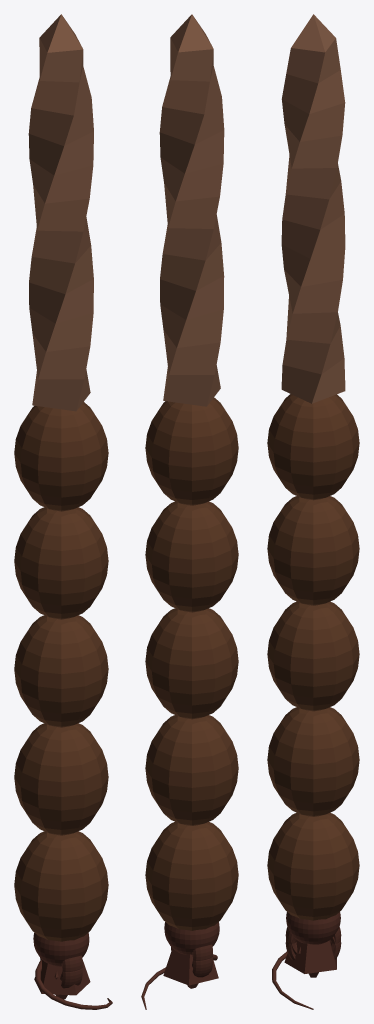
Rendered from Wand 251.glb.
3 renders of one model, left to right at view 1: azimuth 30°, elevation 25°; view 2: azimuth 210°, elevation 25°; view 3: azimuth 270°, elevation 25°, orthographic. The views are drawn at different scales.
Parts seen in each view (by area): view 1: GeneratedWand, Pommel_4, Pommel_9, Pommel_10, Pommel_2; view 2: GeneratedWand, Pommel_4, Pommel_9, Pommel_2; view 3: GeneratedWand, Pommel_4, Pommel_9, Pommel_10, Pommel_2.
Boxes of the visible parts, <box> form: GeneratedWand: <box>14,14,108,980</box>; Pommel_4: <box>33,932,89,966</box>; Pommel_9: <box>34,959,90,995</box>; Pommel_10: <box>35,959,112,1009</box>; Pommel_2: <box>40,957,82,988</box>; GeneratedWand: <box>145,14,238,967</box>; Pommel_4: <box>164,922,219,954</box>; Pommel_9: <box>163,948,218,985</box>; Pommel_2: <box>171,947,212,977</box>; GeneratedWand: <box>267,14,359,954</box>; Pommel_4: <box>286,912,340,944</box>; Pommel_9: <box>284,940,336,973</box>; Pommel_10: <box>272,951,313,1009</box>; Pommel_2: <box>285,936,341,960</box>.
Size of the model in its own units: 0.0481 by 0.5231 by 0.0449.
